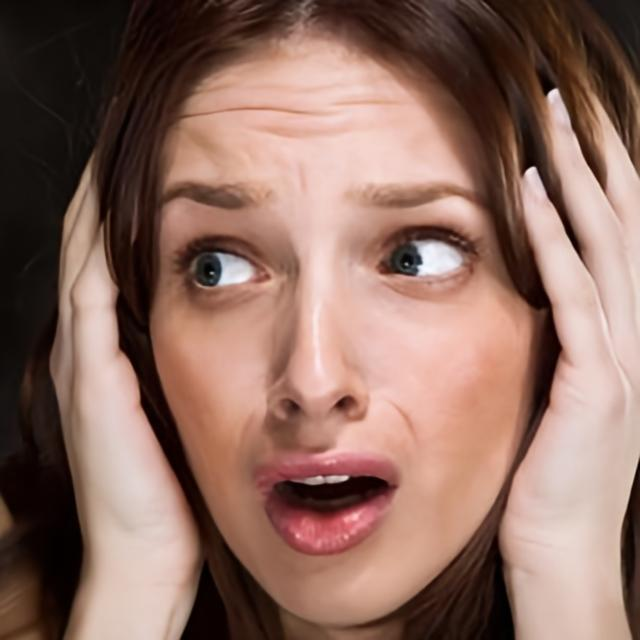fear: (144, 24, 541, 631)
